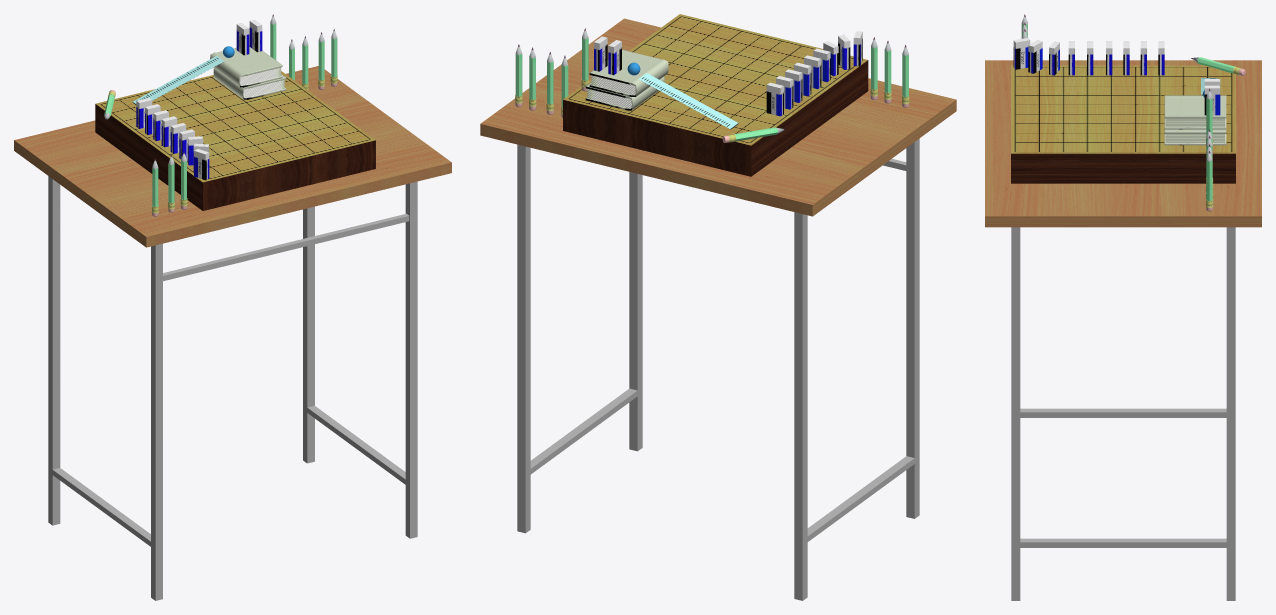
Rendered from slider_on_desk_limes_v6.glb.
The picture shows the model from 3 angles, left to right: view 1: azimuth 30°, elevation 25°; view 2: azimuth 150°, elevation 25°; view 3: azimuth 270°, elevation 25°; orthographic projection. The views are drawn at different scales.
Visible parts, largest first — view 1: board, desk_top, desk_leg2, desk_leg3, desk_leg4, desk_leg1, desk_bar_top_1to3, book02, desk_bar_bottom_1to2, desk_bar_bottom_3to4, book01, Ruler; view 2: board, desk_top, desk_leg3, desk_leg1, desk_leg4, desk_leg2, book02, desk_bar_bottom_1to2, desk_bar_bottom_3to4, Ruler, book01; view 3: board, desk_top, desk_leg2, desk_leg1, desk_bar_bottom_1to2, desk_bar_bottom_3to4, book02, book01, Eraser11, Eraser10, Eraser01, Dwarf_Pencil06 (+1 smaller).
Part boxes in pixels (x1,y1,x2,y2): board: (95,71,375,210); desk_top: (14,66,451,247); desk_leg2: (405,181,417,538); desk_leg3: (48,176,60,525); desk_leg4: (151,243,162,600); desk_leg1: (303,206,314,463); desk_bar_top_1to3: (163,213,409,281); book02: (210,45,282,87); desk_bar_bottom_1to2: (305,405,407,486); desk_bar_bottom_3to4: (50,468,150,546); book01: (213,68,286,99); Ruler: (132,56,224,104); board: (563,14,868,176); desk_top: (480,18,956,216); desk_leg3: (794,212,807,600); desk_leg1: (517,144,530,533); desk_leg4: (906,138,919,518); desk_leg2: (629,172,642,451); book02: (589,49,668,96); desk_bar_bottom_1to2: (528,388,637,476); desk_bar_bottom_3to4: (807,456,916,541); Ruler: (639,73,738,129); book01: (585,76,664,110); board: (1011,65,1235,183); desk_top: (985,60,1261,227); desk_leg2: (1011,227,1020,600); desk_leg1: (1226,227,1235,600); desk_bar_bottom_1to2: (1016,538,1230,547); desk_bar_bottom_3to4: (1020,408,1226,417); book02: (1164,95,1226,129); book01: (1164,129,1226,145); Eraser11: (1013,38,1030,69); Eraser10: (1028,40,1042,73); Eraser01: (1204,85,1220,115); Dwarf_Pencil06: (1191,57,1245,75).
Size of the model in its own units: 12 by 17.48 by 9.
19 materials, 17 textured.
